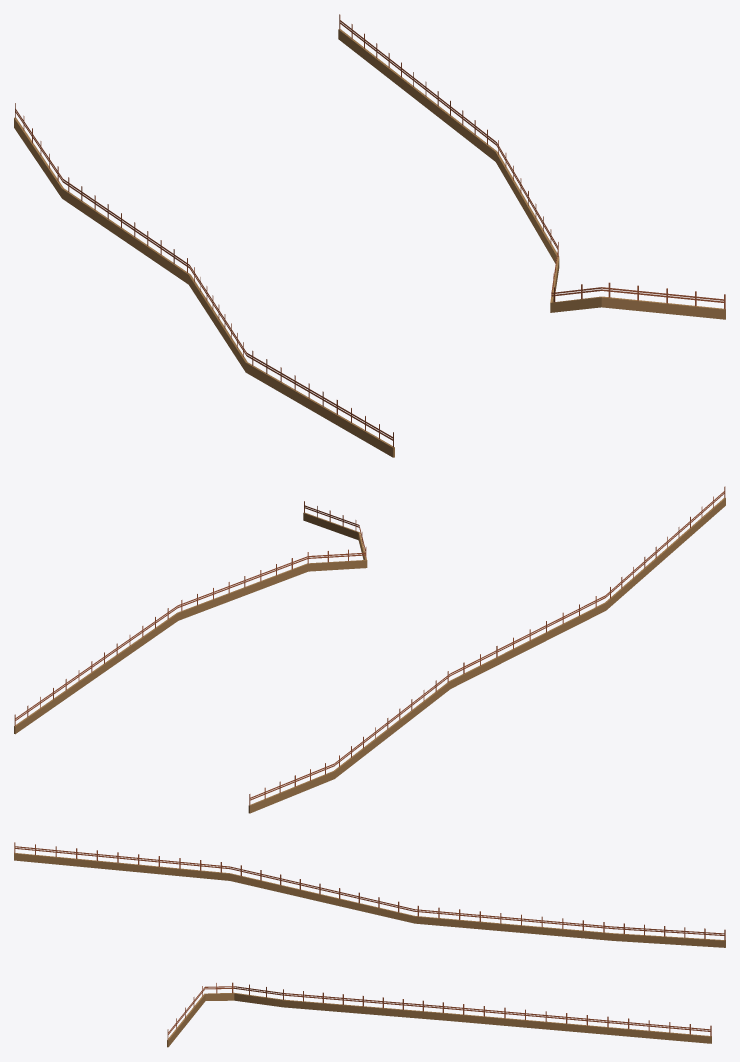
Rendered from fance.fbx.
3 views of the same model, one above another, from view 1: azimuth 30°, elevation 25°; view 2: azimuth 150°, elevation 25°; view 3: azimuth 270°, elevation 25° (orthographic). The views are drawn at different scales.
Parts seen in each view (by area): view 1: BagaPie_Fence.001, BagaPie_Fence; view 2: BagaPie_Fence, BagaPie_Fence.001; view 3: BagaPie_Fence, BagaPie_Fence.001.
Boxes of the visible parts, x1,y1,x2,y2 form: BagaPie_Fence.001: [338, 14, 725, 319]; BagaPie_Fence: [14, 103, 394, 457]; BagaPie_Fence: [248, 486, 725, 813]; BagaPie_Fence.001: [14, 501, 367, 734]; BagaPie_Fence: [14, 842, 725, 947]; BagaPie_Fence.001: [167, 982, 711, 1047].
Bounding box in the file's own units: 4628 × 946 × 9067.
